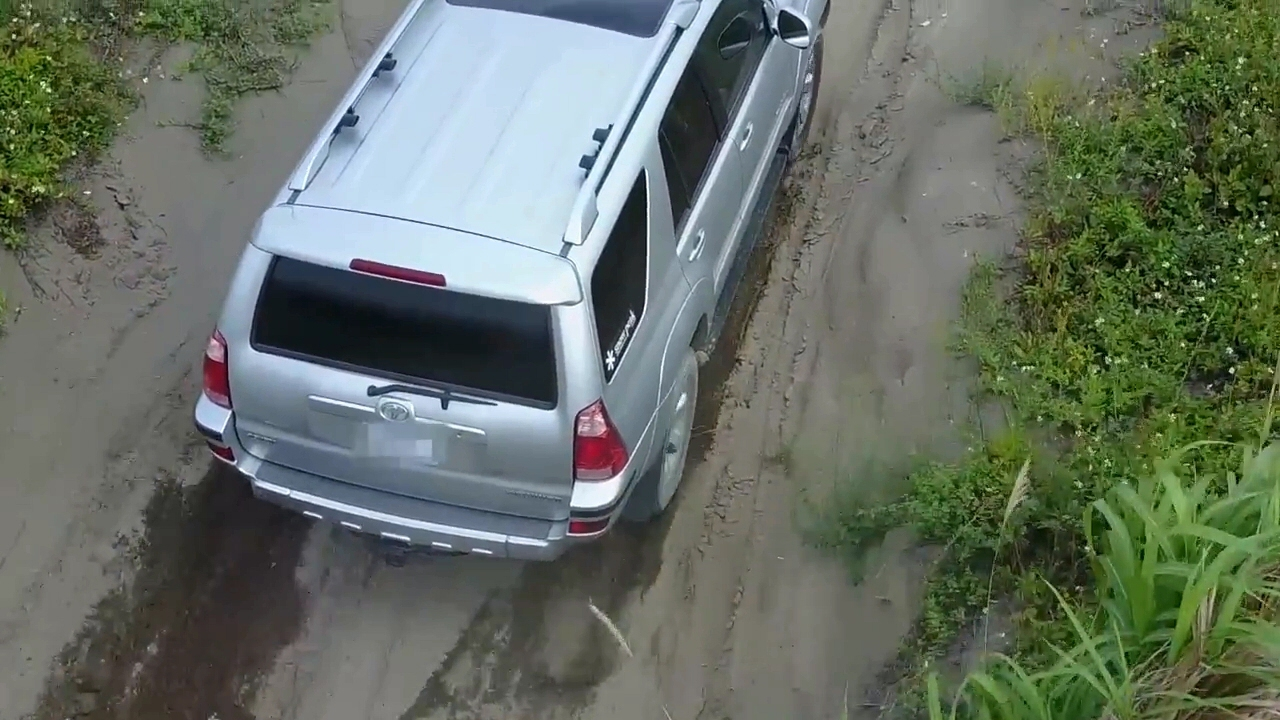araba: (195, 1, 836, 562)
